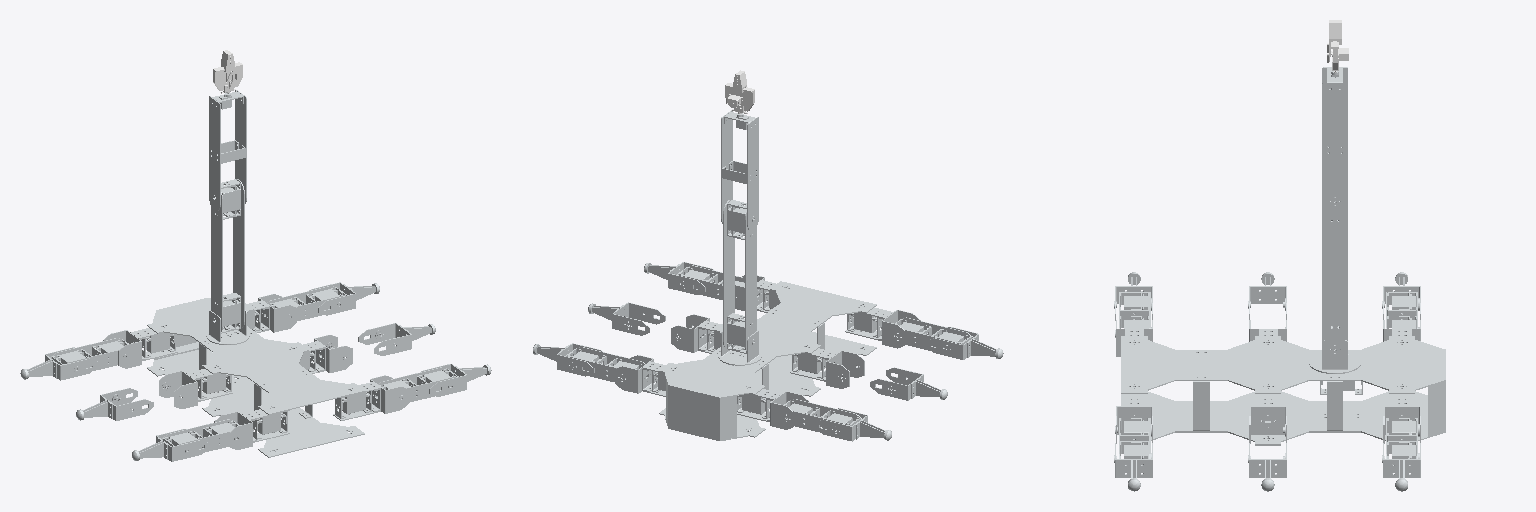
--- Render facts (derived) ---
3 views of the same robot in one strip: view 1: azimuth 30°, elevation 25°; view 2: azimuth 150°, elevation 25°; view 3: azimuth 270°, elevation 25° (orthographic).
Model lmm_model with 23 links and 22 joints (22 revolute), rooted at Trunk_Body, posed every joint at zero.
Visible links, largest first — view 1: Trunk_Body, M_Link_2, M_Link_3, Leg_3_Link_1, Leg_6_Link_1, Leg_5_Link_1, Leg_1_Link_1, Leg_4_Link_1, Leg_3_Link_3, Leg_4_Link_3, Leg_2_Link_1, Leg_5_Link_2 (+9 smaller); view 2: Trunk_Body, M_Link_2, M_Link_3, Leg_3_Link_1, Leg_5_Link_1, Leg_1_Link_1, Leg_4_Link_1, Leg_4_Link_3, Leg_3_Link_3, Leg_2_Link_1, Leg_5_Link_2, Leg_1_Link_2 (+9 smaller); view 3: Trunk_Body, M_Link_3, M_Link_2, Leg_4_Link_1, Leg_6_Link_2, Leg_2_Link_2, M_Link_1, Leg_5_Link_2, Leg_1_Link_2, Leg_2_Link_3, Leg_4_Link_3, Leg_6_Link_3 (+4 smaller).
Link boxes in pixels (x1,y1,x2,y2): Trunk_Body: (147, 298, 364, 457); M_Link_2: (211, 179, 244, 333); M_Link_3: (209, 90, 246, 210); Leg_3_Link_1: (159, 369, 233, 408); Leg_6_Link_1: (333, 375, 408, 420); Leg_5_Link_1: (214, 409, 289, 449); Leg_1_Link_1: (103, 328, 177, 368); Leg_4_Link_1: (299, 335, 352, 373); Leg_3_Link_3: (76, 388, 153, 420); Leg_4_Link_3: (358, 323, 435, 355); Leg_2_Link_1: (247, 294, 296, 332); Leg_5_Link_2: (162, 419, 239, 452); Trunk_Body: (659, 281, 876, 440); M_Link_2: (723, 200, 756, 353); M_Link_3: (721, 110, 758, 231); Leg_3_Link_1: (790, 348, 864, 388); Leg_5_Link_1: (845, 307, 920, 348); Leg_1_Link_1: (737, 389, 808, 429); Leg_4_Link_1: (671, 314, 720, 353); Leg_4_Link_3: (588, 302, 665, 335); Leg_3_Link_3: (870, 367, 947, 400); Leg_2_Link_1: (615, 355, 665, 396); Leg_5_Link_2: (895, 317, 972, 350); Leg_1_Link_2: (784, 399, 861, 432); Trunk_Body: (1121, 336, 1445, 445); M_Link_3: (1322, 67, 1347, 215); M_Link_2: (1322, 200, 1347, 348); Leg_4_Link_1: (1249, 394, 1286, 443); Leg_6_Link_2: (1119, 418, 1150, 464); Leg_2_Link_2: (1386, 418, 1417, 464); M_Link_1: (1309, 340, 1360, 373); Leg_5_Link_2: (1119, 292, 1150, 328); Leg_1_Link_2: (1386, 292, 1417, 328); Leg_2_Link_3: (1382, 443, 1420, 491); Leg_4_Link_3: (1248, 443, 1286, 491); Leg_6_Link_3: (1114, 443, 1152, 491).
Size in the robot's own frame: 0.762 by 0.5077 by 0.6685 metres.
Meshes: 23 distinct files referenced, 21 mesh visuals loaded (21 binary STL); not drawn: 2 (reference not matched to a file when rendering).

The robot description file, URDF, robot "lmm_model":
<?xml version="1.0" ?>
<robot
  name="lmm_model">
  <link
    name="Trunk_Body">
    <inertial>
      <origin
        xyz="1.3281E-13 0.062281 0.001451"
        rpy="0 0 0" />
      <mass
        value="1.0729" />
      <inertia
        ixx="0.028402"
        ixy="2.0748E-19"
        ixz="3.2037E-18"
        iyy="0.00402"
        iyz="-2.8561E-05"
        izz="0.028936" />
    </inertial>
    <visual>
      <origin
        xyz="0 0 0"
        rpy="0 0 0" />
      <geometry>
        <mesh
          filename="package://lmm_model/meshes/Trunk_Body.STL" />
      </geometry>
      <material
        name="">
        <color
          rgba="0.89804 0.91765 0.92941 1" />
      </material>
    </visual>
    <collision>
      <origin
        xyz="0 0 0"
        rpy="0 0 0" />
      <geometry>
        <mesh
          filename="package://lmm_model/meshes/Trunk_Body.STL" />
      </geometry>
    </collision>
  </link>
  <link
    name="Leg_1_Link_1">
    <inertial>
      <origin
        xyz="-0.036469 0.00022501 0.0010278"
        rpy="0 0 0" />
      <mass
        value="0.12581" />
      <inertia
        ixx="6.0449E-05"
        ixy="1.6569E-06"
        ixz="-3.4003E-06"
        iyy="0.00019067"
        iyz="2.9093E-08"
        izz="0.00018671" />
    </inertial>
    <visual>
      <origin
        xyz="0 0 0"
        rpy="0 0 0" />
      <geometry>
        <mesh
          filename="package://lmm_model/meshes/Leg_1_Link_1.STL" />
      </geometry>
      <material
        name="">
        <color
          rgba="0.89804 0.91765 0.92941 1" />
      </material>
    </visual>
    <collision>
      <origin
        xyz="0 0 0"
        rpy="0 0 0" />
      <geometry>
        <mesh
          filename="package://lmm_model/meshes/Leg_1_Link_1.STL" />
      </geometry>
    </collision>
  </link>
  <joint
    name="joint_1_1"
    type="revolute">
    <origin
      xyz="-0.08 0.205 0.0155"
      rpy="0 0 0" />
    <parent
      link="Trunk_Body" />
    <child
      link="Leg_1_Link_1" />
    <axis
      xyz="0 0 1" />
    <limit
      lower="-1.5708"
      upper="1.5708"
      effort="3"
      velocity="5" />
  </joint>
  <link
    name="Leg_1_Link_2">
    <inertial>
      <origin
        xyz="-0.0525 0.0017906 -6.2897E-13"
        rpy="0 0 0" />
      <mass
        value="0.14442" />
      <inertia
        ixx="4.7435E-05"
        ixy="2.2284E-15"
        ixz="-3.5752E-15"
        iyy="0.00031196"
        iyz="-6.9138E-19"
        izz="0.00034589" />
    </inertial>
    <visual>
      <origin
        xyz="0 0 0"
        rpy="0 0 0" />
      <geometry>
        <mesh
          filename="package://lmm_model/meshes/Leg_1_Link_2.STL" />
      </geometry>
      <material
        name="">
        <color
          rgba="0.89804 0.91765 0.92941 1" />
      </material>
    </visual>
    <collision>
      <origin
        xyz="0 0 0"
        rpy="0 0 0" />
      <geometry>
        <mesh
          filename="package://lmm_model/meshes/Leg_1_Link_2.STL" />
      </geometry>
    </collision>
  </link>
  <joint
    name="joint_1_2"
    type="revolute">
    <origin
      xyz="-0.095 0 0"
      rpy="0 0 0" />
    <parent
      link="Leg_1_Link_1" />
    <child
      link="Leg_1_Link_2" />
    <axis
      xyz="0 1 0" />
    <limit
      lower="-1.5708"
      upper="1.5708"
      effort="3"
      velocity="5" />
  </joint>
  <link
    name="Leg_1_Link_3">
    <inertial>
      <origin
        xyz="-0.0308 1.926E-05 -3.6865E-13"
        rpy="0 0 0" />
      <mass
        value="0.055636" />
      <inertia
        ixx="2.6138E-05"
        ixy="-8.8979E-07"
        ixz="-8.3816E-16"
        iyy="7.6621E-05"
        iyz="5.6394E-15"
        izz="9.607E-05" />
    </inertial>
    <visual>
      <origin
        xyz="0 0 0"
        rpy="0 0 0" />
      <geometry>
        <mesh
          filename="package://lmm_model/meshes/Leg_1_Link_3.STL" />
      </geometry>
      <material
        name="">
        <color
          rgba="0.89804 0.91765 0.92941 1" />
      </material>
    </visual>
    <collision>
      <origin
        xyz="0 0 0"
        rpy="0 0 0" />
      <geometry>
        <mesh
          filename="package://lmm_model/meshes/Leg_1_Link_3.STL" />
      </geometry>
    </collision>
  </link>
  <joint
    name="joint_1_3"
    type="revolute">
    <origin
      xyz="-0.105 0 0"
      rpy="0 0 0" />
    <parent
      link="Leg_1_Link_2" />
    <child
      link="Leg_1_Link_3" />
    <axis
      xyz="0 1 0" />
    <limit
      lower="-3.1416"
      upper="0"
      effort="3"
      velocity="5" />
  </joint>
  <link
    name="Leg_2_Link_1">
    <inertial>
      <origin
        xyz="0.036469 0.00022501 0.0010278"
        rpy="0 0 0" />
      <mass
        value="0.12581" />
      <inertia
        ixx="6.0449E-05"
        ixy="-1.6569E-06"
        ixz="3.4003E-06"
        iyy="0.00019067"
        iyz="2.9093E-08"
        izz="0.00018671" />
    </inertial>
    <visual>
      <origin
        xyz="0 0 0"
        rpy="0 0 0" />
      <geometry>
        <mesh
          filename="package://lmm_model/meshes/Leg_2_Link_1.STL" />
      </geometry>
      <material
        name="">
        <color
          rgba="0.89804 0.91765 0.92941 1" />
      </material>
    </visual>
    <collision>
      <origin
        xyz="0 0 0"
        rpy="0 0 0" />
      <geometry>
        <mesh
          filename="package://lmm_model/meshes/Leg_2_Link_1.STL" />
      </geometry>
    </collision>
  </link>
  <joint
    name="joint_2_1"
    type="revolute">
    <origin
      xyz="0.08 0.205 0.0155"
      rpy="0 0 0" />
    <parent
      link="Trunk_Body" />
    <child
      link="Leg_2_Link_1" />
    <axis
      xyz="0 0 1" />
    <limit
      lower="-1.5708"
      upper="1.5708"
      effort="3"
      velocity="5" />
  </joint>
  <link
    name="Leg_2_Link_2">
    <inertial>
      <origin
        xyz="0.0525 0.0017906 6.2925E-13"
        rpy="0 0 0" />
      <mass
        value="0.14442" />
      <inertia
        ixx="4.7435E-05"
        ixy="2.2337E-15"
        ixz="-3.5775E-15"
        iyy="0.00031196"
        iyz="1.5359E-18"
        izz="0.00034589" />
    </inertial>
    <visual>
      <origin
        xyz="0 0 0"
        rpy="0 0 0" />
      <geometry>
        <mesh
          filename="package://lmm_model/meshes/Leg_2_Link_2.STL" />
      </geometry>
      <material
        name="">
        <color
          rgba="0.89804 0.91765 0.92941 1" />
      </material>
    </visual>
    <collision>
      <origin
        xyz="0 0 0"
        rpy="0 0 0" />
      <geometry>
        <mesh
          filename="package://lmm_model/meshes/Leg_2_Link_2.STL" />
      </geometry>
    </collision>
  </link>
  <joint
    name="joint_2_2"
    type="revolute">
    <origin
      xyz="0.095 0 0"
      rpy="0 0 0" />
    <parent
      link="Leg_2_Link_1" />
    <child
      link="Leg_2_Link_2" />
    <axis
      xyz="0 1 0" />
    <limit
      lower="-1.5708"
      upper="1.5708"
      effort="3"
      velocity="5" />
  </joint>
  <link
    name="Leg_2_Link_3">
    <inertial>
      <origin
        xyz="0.0308 1.926E-05 3.6887E-13"
        rpy="0 0 0" />
      <mass
        value="0.055636" />
      <inertia
        ixx="2.6138E-05"
        ixy="8.8979E-07"
        ixz="-8.3861E-16"
        iyy="7.6621E-05"
        iyz="-5.6389E-15"
        izz="9.607E-05" />
    </inertial>
    <visual>
      <origin
        xyz="0 0 0"
        rpy="0 0 0" />
      <geometry>
        <mesh
          filename="package://lmm_model/meshes/Leg_2_Link_3.STL" />
      </geometry>
      <material
        name="">
        <color
          rgba="0.89804 0.91765 0.92941 1" />
      </material>
    </visual>
    <collision>
      <origin
        xyz="0 0 0"
        rpy="0 0 0" />
      <geometry>
        <mesh
          filename="package://lmm_model/meshes/Leg_2_Link_3.STL" />
      </geometry>
    </collision>
  </link>
  <joint
    name="joint_2_3"
    type="revolute">
    <origin
      xyz="0.105 0 0"
      rpy="0 0 0" />
    <parent
      link="Leg_2_Link_2" />
    <child
      link="Leg_2_Link_3" />
    <axis
      xyz="0 1 0" />
    <limit
      lower="0"
      upper="3.1416"
      effort="3"
      velocity="5" />
  </joint>
  <link
    name="Leg_3_Link_1">
    <inertial>
      <origin
        xyz="-0.036469 0.00022501 0.0010278"
        rpy="0 0 0" />
      <mass
        value="0.12581" />
      <inertia
        ixx="6.0449E-05"
        ixy="1.6569E-06"
        ixz="-3.4003E-06"
        iyy="0.00019067"
        iyz="2.9093E-08"
        izz="0.00018671" />
    </inertial>
    <visual>
      <origin
        xyz="0 0 0"
        rpy="0 0 0" />
      <geometry>
        <mesh
          filename="package://lmm_model/meshes/Leg_3_Link_1.STL" />
      </geometry>
      <material
        name="">
        <color
          rgba="0.89804 0.91765 0.92941 1" />
      </material>
    </visual>
    <collision>
      <origin
        xyz="0 0 0"
        rpy="0 0 0" />
      <geometry>
        <mesh
          filename="package://lmm_model/meshes/Leg_3_Link_1.STL" />
      </geometry>
    </collision>
  </link>
  <joint
    name="joint_3_1"
    type="revolute">
    <origin
      xyz="-0.08 0 0.0155"
      rpy="0 0 0" />
    <parent
      link="Trunk_Body" />
    <child
      link="Leg_3_Link_1" />
    <axis
      xyz="0 0 1" />
    <limit
      lower="-1.5708"
      upper="1.5708"
      effort="3"
      velocity="5" />
  </joint>
  <link
    name="Leg_3_Link_2">
    <inertial>
      <origin
        xyz="-0.0525 0.0017906 -6.2897E-13"
        rpy="0 0 0" />
      <mass
        value="0.14442" />
      <inertia
        ixx="4.7435E-05"
        ixy="2.2281E-15"
        ixz="-3.5751E-15"
        iyy="0.00031196"
        iyz="-7.0108E-19"
        izz="0.00034589" />
    </inertial>
    <visual>
      <origin
        xyz="0 0 0"
        rpy="0 0 0" />
      <geometry>
        <mesh
          filename="package://lmm_model/meshes/Leg_3_Link_2.STL" />
      </geometry>
      <material
        name="">
        <color
          rgba="0.89804 0.91765 0.92941 1" />
      </material>
    </visual>
    <collision>
      <origin
        xyz="0 0 0"
        rpy="0 0 0" />
      <geometry>
        <mesh
          filename="package://lmm_model/meshes/Leg_3_Link_2.STL" />
      </geometry>
    </collision>
  </link>
  <joint
    name="joint_3_2"
    type="revolute">
    <origin
      xyz="-0.095 0 0"
      rpy="0 0 0" />
    <parent
      link="Leg_3_Link_1" />
    <child
      link="Leg_3_Link_2" />
    <axis
      xyz="0 1 0" />
    <limit
      lower="-1.5708"
      upper="1.5708"
      effort="3"
      velocity="5" />
  </joint>
  <link
    name="Leg_3_Link_3">
    <inertial>
      <origin
        xyz="-0.0308 1.926E-05 -3.6873E-13"
        rpy="0 0 0" />
      <mass
        value="0.055636" />
      <inertia
        ixx="2.6138E-05"
        ixy="-8.8979E-07"
        ixz="-8.3812E-16"
        iyy="7.6621E-05"
        iyz="5.6394E-15"
        izz="9.607E-05" />
    </inertial>
    <visual>
      <origin
        xyz="0 0 0"
        rpy="0 0 0" />
      <geometry>
        <mesh
          filename="package://lmm_model/meshes/Leg_3_Link_3.STL" />
      </geometry>
      <material
        name="">
        <color
          rgba="0.89804 0.91765 0.92941 1" />
      </material>
    </visual>
    <collision>
      <origin
        xyz="0 0 0"
        rpy="0 0 0" />
      <geometry>
        <mesh
          filename="package://lmm_model/meshes/Leg_3_Link_3.STL" />
      </geometry>
    </collision>
  </link>
  <joint
    name="joint_3_3"
    type="revolute">
    <origin
      xyz="-0.105 0 0"
      rpy="0 0 0" />
    <parent
      link="Leg_3_Link_2" />
    <child
      link="Leg_3_Link_3" />
    <axis
      xyz="0 1 0" />
    <limit
      lower="-3.1416"
      upper="0"
      effort="3"
      velocity="5" />
  </joint>
  <link
    name="Leg_4_Link_1">
    <inertial>
      <origin
        xyz="0.036469 0.00022501 0.0010278"
        rpy="0 0 0" />
      <mass
        value="0.12581" />
      <inertia
        ixx="6.0449E-05"
        ixy="-1.6569E-06"
        ixz="3.4003E-06"
        iyy="0.00019067"
        iyz="2.9093E-08"
        izz="0.00018671" />
    </inertial>
    <visual>
      <origin
        xyz="0 0 0"
        rpy="0 0 0" />
      <geometry>
        <mesh
          filename="package://lmm_model/meshes/Leg_4_Link_1.STL" />
      </geometry>
      <material
        name="">
        <color
          rgba="0.89804 0.91765 0.92941 1" />
      </material>
    </visual>
    <collision>
      <origin
        xyz="0 0 0"
        rpy="0 0 0" />
      <geometry>
        <mesh
          filename="package://lmm_model/meshes/Leg_4_Link_1.STL" />
      </geometry>
    </collision>
  </link>
  <joint
    name="joint_4_1"
    type="revolute">
    <origin
      xyz="0.08 0 0.0155"
      rpy="0 0 0" />
    <parent
      link="Trunk_Body" />
    <child
      link="Leg_4_Link_1" />
    <axis
      xyz="0 0 1" />
    <limit
      lower="-1.5708"
      upper="1.5708"
      effort="3"
      velocity="5" />
  </joint>
  <link
    name="Leg_4_Link_2">
    <inertial>
      <origin
        xyz="0.0525 0.0017906 6.2925E-13"
        rpy="0 0 0" />
      <mass
        value="0.14442" />
      <inertia
        ixx="4.7435E-05"
        ixy="2.2342E-15"
        ixz="-3.5773E-15"
        iyy="0.00031196"
        iyz="1.5029E-18"
        izz="0.00034589" />
    </inertial>
    <visual>
      <origin
        xyz="0 0 0"
        rpy="0 0 0" />
      <geometry>
        <mesh
          filename="package://lmm_model/meshes/Leg_4_Link_2.STL" />
      </geometry>
      <material
        name="">
        <color
          rgba="0.89804 0.91765 0.92941 1" />
      </material>
    </visual>
    <collision>
      <origin
        xyz="0 0 0"
        rpy="0 0 0" />
      <geometry>
        <mesh
          filename="package://lmm_model/meshes/Leg_4_Link_2.STL" />
      </geometry>
    </collision>
  </link>
  <joint
    name="joint_4_2"
    type="revolute">
    <origin
      xyz="0.095 0 0"
      rpy="0 0 0" />
    <parent
      link="Leg_4_Link_1" />
    <child
      link="Leg_4_Link_2" />
    <axis
      xyz="0 1 0" />
    <limit
      lower="-1.5708"
      upper="1.5708"
      effort="3"
      velocity="5" />
  </joint>
  <link
    name="Leg_4_Link_3">
    <inertial>
      <origin
        xyz="0.0308 1.926E-05 3.6884E-13"
        rpy="0 0 0" />
      <mass
        value="0.055636" />
      <inertia
        ixx="2.6138E-05"
        ixy="8.8979E-07"
        ixz="-8.3861E-16"
        iyy="7.6621E-05"
        iyz="-5.6389E-15"
        izz="9.607E-05" />
    </inertial>
    <visual>
      <origin
        xyz="0 0 0"
        rpy="0 0 0" />
      <geometry>
        <mesh
          filename="package://lmm_model/meshes/Leg_4_Link_3.STL" />
      </geometry>
      <material
        name="">
        <color
          rgba="0.89804 0.91765 0.92941 1" />
      </material>
    </visual>
    <collision>
      <origin
        xyz="0 0 0"
        rpy="0 0 0" />
      <geometry>
        <mesh
          filename="package://lmm_model/meshes/Leg_4_Link_3.STL" />
      </geometry>
    </collision>
  </link>
  <joint
    name="joint_4_3"
    type="revolute">
    <origin
      xyz="0.105 0 0"
      rpy="0 0 0" />
    <parent
      link="Leg_4_Link_2" />
    <child
      link="Leg_4_Link_3" />
    <axis
      xyz="0 1 0" />
    <limit
      lower="0"
      upper="3.1416"
      effort="3"
      velocity="5" />
  </joint>
  <link
    name="Leg_5_Link_1">
    <inertial>
      <origin
        xyz="-0.036469 0.00022501 0.0010278"
        rpy="0 0 0" />
      <mass
        value="0.12581" />
      <inertia
        ixx="6.0449E-05"
        ixy="1.6569E-06"
        ixz="-3.4003E-06"
        iyy="0.00019067"
        iyz="2.9093E-08"
        izz="0.00018671" />
    </inertial>
    <visual>
      <origin
        xyz="0 0 0"
        rpy="0 0 0" />
      <geometry>
        <mesh
          filename="package://lmm_model/meshes/Leg_5_Link_1.STL" />
      </geometry>
      <material
        name="">
        <color
          rgba="0.89804 0.91765 0.92941 1" />
      </material>
    </visual>
    <collision>
      <origin
        xyz="0 0 0"
        rpy="0 0 0" />
      <geometry>
        <mesh
          filename="package://lmm_model/meshes/Leg_5_Link_1.STL" />
      </geometry>
    </collision>
  </link>
  <joint
    name="joint_5_1"
    type="revolute">
    <origin
      xyz="-0.08 -0.205 0.0155"
      rpy="0 0 0" />
    <parent
      link="Trunk_Body" />
    <child
      link="Leg_5_Link_1" />
    <axis
      xyz="0 0 1" />
    <limit
      lower="-1.5708"
      upper="1.5708"
      effort="3"
      velocity="5" />
  </joint>
  <link
    name="Leg_5_Link_2">
    <inertial>
      <origin
        xyz="-0.0525 0.0017906 -6.2894E-13"
        rpy="0 0 0" />
      <mass
        value="0.14442" />
      <inertia
        ixx="4.7435E-05"
        ixy="2.2281E-15"
        ixz="-3.5752E-15"
        iyy="0.00031196"
        iyz="-7.0353E-19"
        izz="0.00034589" />
    </inertial>
    <visual>
      <origin
        xyz="0 0 0"
        rpy="0 0 0" />
      <geometry>
        <mesh
          filename="package://lmm_model/meshes/Leg_5_Link_2.STL" />
      </geometry>
      <material
        name="">
        <color
          rgba="0.89804 0.91765 0.92941 1" />
      </material>
    </visual>
    <collision>
      <origin
        xyz="0 0 0"
        rpy="0 0 0" />
      <geometry>
        <mesh
          filename="package://lmm_model/meshes/Leg_5_Link_2.STL" />
      </geometry>
    </collision>
  </link>
  <joint
    name="joint_5_2"
    type="revolute">
    <origin
      xyz="-0.095 0 0"
      rpy="0 0 0" />
    <parent
      link="Leg_5_Link_1" />
    <child
      link="Leg_5_Link_2" />
    <axis
      xyz="0 1 0" />
    <limit
      lower="-1.5708"
      upper="1.5708"
      effort="3"
      velocity="5" />
  </joint>
  <link
    name="Leg_5_Link_3">
    <inertial>
      <origin
        xyz="-0.0308 1.926E-05 -3.6873E-13"
        rpy="0 0 0" />
      <mass
        value="0.055636" />
      <inertia
        ixx="2.6138E-05"
        ixy="-8.8979E-07"
        ixz="-8.3812E-16"
        iyy="7.6621E-05"
        iyz="5.6394E-15"
        izz="9.607E-05" />
    </inertial>
    <visual>
      <origin
        xyz="0 0 0"
        rpy="0 0 0" />
      <geometry>
        <mesh
          filename="package://lmm_model/meshes/Leg_5_Link_3.STL" />
      </geometry>
      <material
        name="">
        <color
          rgba="0.89804 0.91765 0.92941 1" />
      </material>
    </visual>
    <collision>
      <origin
        xyz="0 0 0"
        rpy="0 0 0" />
      <geometry>
        <mesh
          filename="package://lmm_model/meshes/Leg_5_Link_3.STL" />
      </geometry>
    </collision>
  </link>
  <joint
    name="joint_5_3"
    type="revolute">
    <origin
      xyz="-0.105 0 0"
      rpy="0 0 0" />
    <parent
      link="Leg_5_Link_2" />
    <child
      link="Leg_5_Link_3" />
    <axis
      xyz="0 1 0" />
    <limit
      lower="-3.1416"
      upper="0"
      effort="3"
      velocity="5" />
  </joint>
  <link
    name="Leg_6_Link_1">
    <inertial>
      <origin
        xyz="0.036469 0.00022501 0.0010278"
        rpy="0 0 0" />
      <mass
        value="0.12581" />
      <inertia
        ixx="6.0449E-05"
        ixy="-1.6569E-06"
        ixz="3.4003E-06"
        iyy="0.00019067"
        iyz="2.9093E-08"
        izz="0.00018671" />
    </inertial>
    <visual>
      <origin
        xyz="0 0 0"
        rpy="0 0 0" />
      <geometry>
        <mesh
          filename="package://lmm_model/meshes/Leg_6_Link_1.STL" />
      </geometry>
      <material
        name="">
        <color
          rgba="0.89804 0.91765 0.92941 1" />
      </material>
    </visual>
    <collision>
      <origin
        xyz="0 0 0"
        rpy="0 0 0" />
      <geometry>
        <mesh
          filename="package://lmm_model/meshes/Leg_6_Link_1.STL" />
      </geometry>
    </collision>
  </link>
  <joint
    name="joint_6_1"
    type="revolute">
    <origin
      xyz="0.08 -0.205 0.0155"
      rpy="0 0 0" />
    <parent
      link="Trunk_Body" />
    <child
      link="Leg_6_Link_1" />
    <axis
      xyz="0 0 1" />
    <limit
      lower="-1.5708"
      upper="1.5708"
      effort="3"
      velocity="5" />
  </joint>
  <link
    name="Leg_6_Link_2">
    <inertial>
      <origin
        xyz="0.0525 0.0017906 6.2927E-13"
        rpy="0 0 0" />
      <mass
        value="0.14442" />
      <inertia
        ixx="4.7435E-05"
        ixy="2.2341E-15"
        ixz="-3.5772E-15"
        iyy="0.00031196"
        iyz="1.5358E-18"
        izz="0.00034589" />
    </inertial>
    <visual>
      <origin
        xyz="0 0 0"
        rpy="0 0 0" />
      <geometry>
        <mesh
          filename="package://lmm_model/meshes/Leg_6_Link_2.STL" />
      </geometry>
      <material
        name="">
        <color
          rgba="0.89804 0.91765 0.92941 1" />
      </material>
    </visual>
    <collision>
      <origin
        xyz="0 0 0"
        rpy="0 0 0" />
      <geometry>
        <mesh
          filename="package://lmm_model/meshes/Leg_6_Link_2.STL" />
      </geometry>
    </collision>
  </link>
  <joint
    name="joint_6_2"
    type="revolute">
    <origin
      xyz="0.095 0 0"
      rpy="0 0 0" />
    <parent
      link="Leg_6_Link_1" />
    <child
      link="Leg_6_Link_2" />
    <axis
      xyz="0 1 0" />
    <limit
      lower="-1.5708"
      upper="1.5708"
      effort="3"
      velocity="5" />
  </joint>
  <link
    name="Leg_6_Link_3">
    <inertial>
      <origin
        xyz="0.0308 1.926E-05 3.6893E-13"
        rpy="0 0 0" />
      <mass
        value="0.055636" />
      <inertia
        ixx="2.6138E-05"
        ixy="8.8979E-07"
        ixz="-8.3859E-16"
        iyy="7.6621E-05"
        iyz="-5.6389E-15"
        izz="9.607E-05" />
    </inertial>
    <visual>
      <origin
        xyz="0 0 0"
        rpy="0 0 0" />
      <geometry>
        <mesh
          filename="package://lmm_model/meshes/Leg_6_Link_3.STL" />
      </geometry>
      <material
        name="">
        <color
          rgba="0.89804 0.91765 0.92941 1" />
      </material>
    </visual>
    <collision>
      <origin
        xyz="0 0 0"
        rpy="0 0 0" />
      <geometry>
        <mesh
          filename="package://lmm_model/meshes/Leg_6_Link_3.STL" />
      </geometry>
    </collision>
  </link>
  <joint
    name="joint_6_3"
    type="revolute">
    <origin
      xyz="0.105 0 0"
      rpy="0 0 0" />
    <parent
      link="Leg_6_Link_2" />
    <child
      link="Leg_6_Link_3" />
    <axis
      xyz="0 1 0" />
    <limit
      lower="0"
      upper="3.1416"
      effort="3"
      velocity="5" />
  </joint>
  <link
    name="M_Link_1">
    <inertial>
      <origin
        xyz="0.00055034 3.8891E-13 0.01547"
        rpy="0 0 0" />
      <mass
        value="0.051436" />
      <inertia
        ixx="2.759E-05"
        ixy="9.2369E-12"
        ixz="-6.8023E-07"
        iyy="4.2613E-05"
        iyz="-4.8064E-16"
        izz="4.2594E-05" />
    </inertial>
    <visual>
      <origin
        xyz="0 0 0"
        rpy="0 0 0" />
      <geometry>
        <mesh
          filename="package://lmm_model/meshes/M_Link_1.STL" />
      </geometry>
      <material
        name="">
        <color
          rgba="0.89804 0.91765 0.92941 1" />
      </material>
    </visual>
    <collision>
      <origin
        xyz="0 0 0"
        rpy="0 0 0" />
      <geometry>
        <mesh
          filename="package://lmm_model/meshes/M_Link_1.STL" />
      </geometry>
    </collision>
  </link>
  <joint
    name="joint_m_1"
    type="revolute">
    <origin
      xyz="0 0.1025 0.0445"
      rpy="0 0 0" />
    <parent
      link="Trunk_Body" />
    <child
      link="M_Link_1" />
    <axis
      xyz="0 0 1" />
    <limit
      lower="-1.5708"
      upper="1.5708"
      effort="3"
      velocity="5" />
  </joint>
  <link
    name="M_Link_2">
    <inertial>
      <origin
        xyz="0.0011652 8.1768E-13 0.125"
        rpy="0 0 0" />
      <mass
        value="0.22192" />
      <inertia
        ixx="0.0022264"
        ixy="-4.5276E-14"
        ixz="4.4278E-17"
        iyy="0.0022904"
        iyz="5.0702E-17"
        izz="0.00010329" />
    </inertial>
    <visual>
      <origin
        xyz="0 0 0"
        rpy="0 0 0" />
      <geometry>
        <mesh
          filename="package://lmm_model/meshes/M_Link_2.STL" />
      </geometry>
      <material
        name="">
        <color
          rgba="0.89804 0.91765 0.92941 1" />
      </material>
    </visual>
    <collision>
      <origin
        xyz="0 0 0"
        rpy="0 0 0" />
      <geometry>
        <mesh
          filename="package://lmm_model/meshes/M_Link_2.STL" />
      </geometry>
    </collision>
  </link>
  <joint
    name="joint_m_2"
    type="revolute">
    <origin
      xyz="0 0 0.0395"
      rpy="0 0 0" />
    <parent
      link="M_Link_1" />
    <child
      link="M_Link_2" />
    <axis
      xyz="1 0 0" />
    <limit
      lower="-1.5708"
      upper="1.5708"
      effort="3"
      velocity="5" />
  </joint>
  <link
    name="M_Link_3">
    <inertial>
      <origin
        xyz="-4.211E-05 -1.2356E-08 0.10228"
        rpy="0 0 0" />
      <mass
        value="0.13111" />
      <inertia
        ixx="0.00059577"
        ixy="1.2916E-12"
        ixz="6.0949E-06"
        iyy="0.00066378"
        iyz="1.255E-10"
        izz="0.00010414" />
    </inertial>
    <visual>
      <origin
        xyz="0 0 0"
        rpy="0 0 0" />
      <geometry>
        <mesh
          filename="package://lmm_model/meshes/M_Link_3.STL" />
      </geometry>
      <material
        name="">
        <color
          rgba="0.89804 0.91765 0.92941 1" />
      </material>
    </visual>
    <collision>
      <origin
        xyz="0 0 0"
        rpy="0 0 0" />
      <geometry>
        <mesh
          filename="package://lmm_model/meshes/M_Link_3.STL" />
      </geometry>
    </collision>
  </link>
  <joint
    name="joint_m_3"
    type="revolute">
    <origin
      xyz="0 0 0.25"
      rpy="0 0 0" />
    <parent
      link="M_Link_2" />
    <child
      link="M_Link_3" />
    <axis
      xyz="1 0 0" />
    <limit
      lower="-1.5708"
      upper="1.5708"
      effort="3"
      velocity="5" />
  </joint>
  <link
    name="Gripper">
    <inertial>
      <origin
        xyz="0.00087814 0.0018495 0.047514"
        rpy="0 0 0" />
      <mass
        value="0.03755" />
      <inertia
        ixx="1.4446E-05"
        ixy="-3.8029E-07"
        ixz="3.3319E-07"
        iyy="1.8014E-05"
        iyz="7.3875E-07"
        izz="6.9979E-06" />
    </inertial>
    <visual>
      <origin
        xyz="0 0 0"
        rpy="0 0 0" />
      <geometry>
        <mesh
          filename="package://lmm_model/meshes/Gripper.STL" />
      </geometry>
      <material
        name="">
        <color
          rgba="1 1 1 1" />
      </material>
    </visual>
    <collision>
      <origin
        xyz="0 0 0"
        rpy="0 0 0" />
      <geometry>
        <mesh
          filename="package://lmm_model/meshes/Gripper.STL" />
      </geometry>
    </collision>
  </link>
  <joint
    name="joint_m_4"
    type="revolute">
    <origin
      xyz="0 0 0.2"
      rpy="0 0 0" />
    <parent
      link="M_Link_3" />
    <child
      link="Gripper" />
    <axis
      xyz="0 0 1" />
    <limit
      lower="-1.5708"
      upper="1.5708"
      effort="3"
      velocity="5" />
  </joint>

  <!-- GAZEBO PART -->

  <!-- Gazebo ROS Control -->
  <gazebo>
    <plugin name="gazebo_ros_control" filename="libgazebo_ros_control.so">
      <robotNamespace>/lmm</robotNamespace>
      <robotSimType>gazebo_ros_control/DefaultRobotHWSim</robotSimType>
      <legacyModeNS>true</legacyModeNS>
    </plugin>
    <material>Gazebo/DarkGrey</material>
  </gazebo>
  <gazebo reference="Leg_1_Link_3">
    <mu1>5</mu1>
    <mu2>5</mu2>
    <!-- <material>Gazebo/Orange</material> -->
  </gazebo>
  <gazebo reference="Leg_2_Link_3">
    <mu1>5</mu1>
    <mu2>5</mu2>
    <!-- <material>Gazebo/Orange</material> -->
  </gazebo>
  <gazebo reference="Leg_3_Link_3">
    <mu1>5</mu1>
    <mu2>5</mu2>
    <!-- <material>Gazebo/Orange</material> -->
  </gazebo>
  <gazebo reference="Leg_4_Link_3">
    <mu1>5</mu1>
    <mu2>5</mu2>
    <!-- <material>Gazebo/Orange</material> -->
  </gazebo>
  <gazebo reference="Leg_5_Link_3">
    <mu1>5</mu1>
    <mu2>5</mu2>
    <!-- <material>Gazebo/Orange</material> -->
  </gazebo>
  <gazebo reference="Leg_6_Link_3">
    <mu1>5</mu1>
    <mu2>5</mu2>
    <!-- <material>Gazebo/Orange</material> -->
  </gazebo>

  <!-- Transmission -->
  <transmission name="joint_1_1_trans">
    <type>transmission_interface/SimpleTransmission</type>
    <joint name="joint_1_1">
      <hardwareInterface>hardware_interface/EffortJointInterface</hardwareInterface>
    </joint>
    <actuator name="motor_1_1">
      <hardwareInterface>hardware_interface/EffortJointInterface</hardwareInterface>
      <mechanicalReduction>1</mechanicalReduction>
    </actuator>
  </transmission>
  <transmission name="joint_1_2_trans">
    <type>transmission_interface/SimpleTransmission</type>
    <joint name="joint_1_2">
      <hardwareInterface>hardware_interface/EffortJointInterface</hardwareInterface>
    </joint>
    <actuator name="motor_1_2">
      <hardwareInterface>hardware_interface/EffortJointInterface</hardwareInterface>
      <mechanicalReduction>1</mechanicalReduction>
    </actuator>
  </transmission>
  <transmission name="joint_1_3_trans">
    <type>transmission_interface/SimpleTransmission</type>
    <joint name="joint_1_3">
      <hardwareInterface>hardware_interface/EffortJointInterface</hardwareInterface>
    </joint>
    <actuator name="motor_1_3">
      <hardwareInterface>hardware_interface/EffortJointInterface</hardwareInterface>
      <mechanicalReduction>1</mechanicalReduction>
    </actuator>
  </transmission>
  <transmission name="joint_2_1_trans">
    <type>transmission_interface/SimpleTransmission</type>
    <joint name="joint_2_1">
      <hardwareInterface>hardware_interface/EffortJointInterface</hardwareInterface>
    </joint>
    <actuator name="motor_2_1">
      <hardwareInterface>hardware_interface/EffortJointInterface</hardwareInterface>
      <mechanicalReduction>1</mechanicalReduction>
    </actuator>
  </transmission>
  <transmission name="joint_2_2_trans">
    <type>transmission_interface/SimpleTransmission</type>
    <joint name="joint_2_2">
      <hardwareInterface>hardware_interface/EffortJointInterface</hardwareInterface>
    </joint>
    <actuator name="motor_2_2">
      <hardwareInterface>hardware_interface/EffortJointInterface</hardwareInterface>
      <mechanicalReduction>1</mechanicalReduction>
    </actuator>
  </transmission>
  <transmission name="joint_2_3_trans">
    <type>transmission_interface/SimpleTransmission</type>
    <joint name="joint_2_3">
      <hardwareInterface>hardware_interface/EffortJointInterface</hardwareInterface>
    </joint>
    <actuator name="motor_2_3">
      <hardwareInterface>hardware_interface/EffortJointInterface</hardwareInterface>
      <mechanicalReduction>1</mechanicalReduction>
    </actuator>
  </transmission>
  <transmission name="joint_3_1_trans">
    <type>transmission_interface/SimpleTransmission</type>
    <joint name="joint_3_1">
      <hardwareInterface>hardware_interface/EffortJointInterface</hardwareInterface>
    </joint>
    <actuator name="motor_3_1">
      <hardwareInterface>hardware_interface/EffortJointInterface</hardwareInterface>
      <mechanicalReduction>1</mechanicalReduction>
    </actuator>
  </transmission>
  <transmission name="joint_3_2_trans">
    <type>transmission_interface/SimpleTransmission</type>
    <joint name="joint_3_2">
      <hardwareInterface>hardware_interface/EffortJointInterface</hardwareInterface>
    </joint>
    <actuator name="motor_3_2">
      <hardwareInterface>hardware_interface/EffortJointInterface</hardwareInterface>
      <mechanicalReduction>1</mechanicalReduction>
    </actuator>
  </transmission>
  <transmission name="joint_3_3_trans">
    <type>transmission_interface/SimpleTransmission</type>
    <joint name="joint_3_3">
      <hardwareInterface>hardware_interface/EffortJointInterface</hardwareInterface>
    </joint>
    <actuator name="motor_3_3">
      <hardwareInterface>hardware_interface/EffortJointInterface</hardwareInterface>
      <mechanicalReduction>1</mechanicalReduction>
    </actuator>
  </transmission>
  <transmission name="joint_4_1_trans">
    <type>transmission_interface/SimpleTransmission</type>
    <joint name="joint_4_1">
      <hardwareInterface>hardware_interface/EffortJointInterface</hardwareInterface>
    </joint>
    <actuator name="motor_4_1">
      <hardwareInterface>hardware_interface/EffortJointInterface</hardwareInterface>
      <mechanicalReduction>1</mechanicalReduction>
    </actuator>
  </transmission>
  <transmission name="joint_4_2_trans">
    <type>transmission_interface/SimpleTransmission</type>
    <joint name="joint_4_2">
      <hardwareInterface>hardware_interface/EffortJointInterface</hardwareInterface>
    </joint>
    <actuator name="motor_4_2">
      <hardwareInterface>hardware_interface/EffortJointInterface</hardwareInterface>
      <mechanicalReduction>1</mechanicalReduction>
    </actuator>
  </transmission>
  <transmission name="joint_4_3_trans">
    <type>transmission_interface/SimpleTransmission</type>
    <joint name="joint_4_3">
      <hardwareInterface>hardware_interface/EffortJointInterface</hardwareInterface>
    </joint>
    <actuator name="motor_4_3">
      <hardwareInterface>hardware_interface/EffortJointInterface</hardwareInterface>
      <mechanicalReduction>1</mechanicalReduction>
    </actuator>
  </transmission>
  <transmission name="joint_5_1_trans">
    <type>transmission_interface/SimpleTransmission</type>
    <joint name="joint_5_1">
      <hardwareInterface>hardware_interface/EffortJointInterface</hardwareInterface>
    </joint>
    <actuator name="motor_5_1">
      <hardwareInterface>hardware_interface/EffortJointInterface</hardwareInterface>
      <mechanicalReduction>1</mechanicalReduction>
    </actuator>
  </transmission>
  <transmission name="joint_5_2_trans">
    <type>transmission_interface/SimpleTransmission</type>
    <joint name="joint_5_2">
      <hardwareInterface>hardware_interface/EffortJointInterface</hardwareInterface>
    </joint>
    <actuator name="motor_5_2">
      <hardwareInterface>hardware_interface/EffortJointInterface</hardwareInterface>
      <mechanicalReduction>1</mechanicalReduction>
    </actuator>
  </transmission>
  <transmission name="joint_5_3_trans">
    <type>transmission_interface/SimpleTransmission</type>
    <joint name="joint_5_3">
      <hardwareInterface>hardware_interface/EffortJointInterface</hardwareInterface>
    </joint>
    <actuator name="motor_5_3">
      <hardwareInterface>hardware_interface/EffortJointInterface</hardwareInterface>
      <mechanicalReduction>1</mechanicalReduction>
    </actuator>
  </transmission>
  <transmission name="joint_6_1_trans">
    <type>transmission_interface/SimpleTransmission</type>
    <joint name="joint_6_1">
      <hardwareInterface>hardware_interface/EffortJointInterface</hardwareInterface>
    </joint>
    <actuator name="motor_6_1">
      <hardwareInterface>hardware_interface/EffortJointInterface</hardwareInterface>
      <mechanicalReduction>1</mechanicalReduction>
    </actuator>
  </transmission>
  <transmission name="joint_6_2_trans">
    <type>transmission_interface/SimpleTransmission</type>
    <joint name="joint_6_2">
      <hardwareInterface>hardware_interface/EffortJointInterface</hardwareInterface>
    </joint>
    <actuator name="motor_6_2">
      <hardwareInterface>hardware_interface/EffortJointInterface</hardwareInterface>
      <mechanicalReduction>1</mechanicalReduction>
    </actuator>
  </transmission>
  <transmission name="joint_6_3_trans">
    <type>transmission_interface/SimpleTransmission</type>
    <joint name="joint_6_3">
      <hardwareInterface>hardware_interface/EffortJointInterface</hardwareInterface>
    </joint>
    <actuator name="motor_6_3">
      <hardwareInterface>hardware_interface/EffortJointInterface</hardwareInterface>
      <mechanicalReduction>1</mechanicalReduction>
    </actuator>
  </transmission>
  <transmission name="joint_m_1_trans">
    <type>transmission_interface/SimpleTransmission</type>
    <joint name="joint_m_1">
      <hardwareInterface>hardware_interface/EffortJointInterface</hardwareInterface>
    </joint>
    <actuator name="motor_m_1">
      <hardwareInterface>hardware_interface/EffortJointInterface</hardwareInterface>
      <mechanicalReduction>1</mechanicalReduction>
    </actuator>
  </transmission>
  <transmission name="joint_m_2_trans">
    <type>transmission_interface/SimpleTransmission</type>
    <joint name="joint_m_2">
      <hardwareInterface>hardware_interface/EffortJointInterface</hardwareInterface>
    </joint>
    <actuator name="motor_m_2">
      <hardwareInterface>hardware_interface/EffortJointInterface</hardwareInterface>
      <mechanicalReduction>1</mechanicalReduction>
    </actuator>
  </transmission>
  <transmission name="joint_m_3_trans">
    <type>transmission_interface/SimpleTransmission</type>
    <joint name="joint_m_3">
      <hardwareInterface>hardware_interface/EffortJointInterface</hardwareInterface>
    </joint>
    <actuator name="motor_m_3">
      <hardwareInterface>hardware_interface/EffortJointInterface</hardwareInterface>
      <mechanicalReduction>1</mechanicalReduction>
    </actuator>
  </transmission>
  <transmission name="joint_m_4_trans">
    <type>transmission_interface/SimpleTransmission</type>
    <joint name="joint_m_4">
      <hardwareInterface>hardware_interface/EffortJointInterface</hardwareInterface>
    </joint>
    <actuator name="motor_m_4">
      <hardwareInterface>hardware_interface/EffortJointInterface</hardwareInterface>
      <mechanicalReduction>1</mechanicalReduction>
    </actuator>
  </transmission>

</robot>
